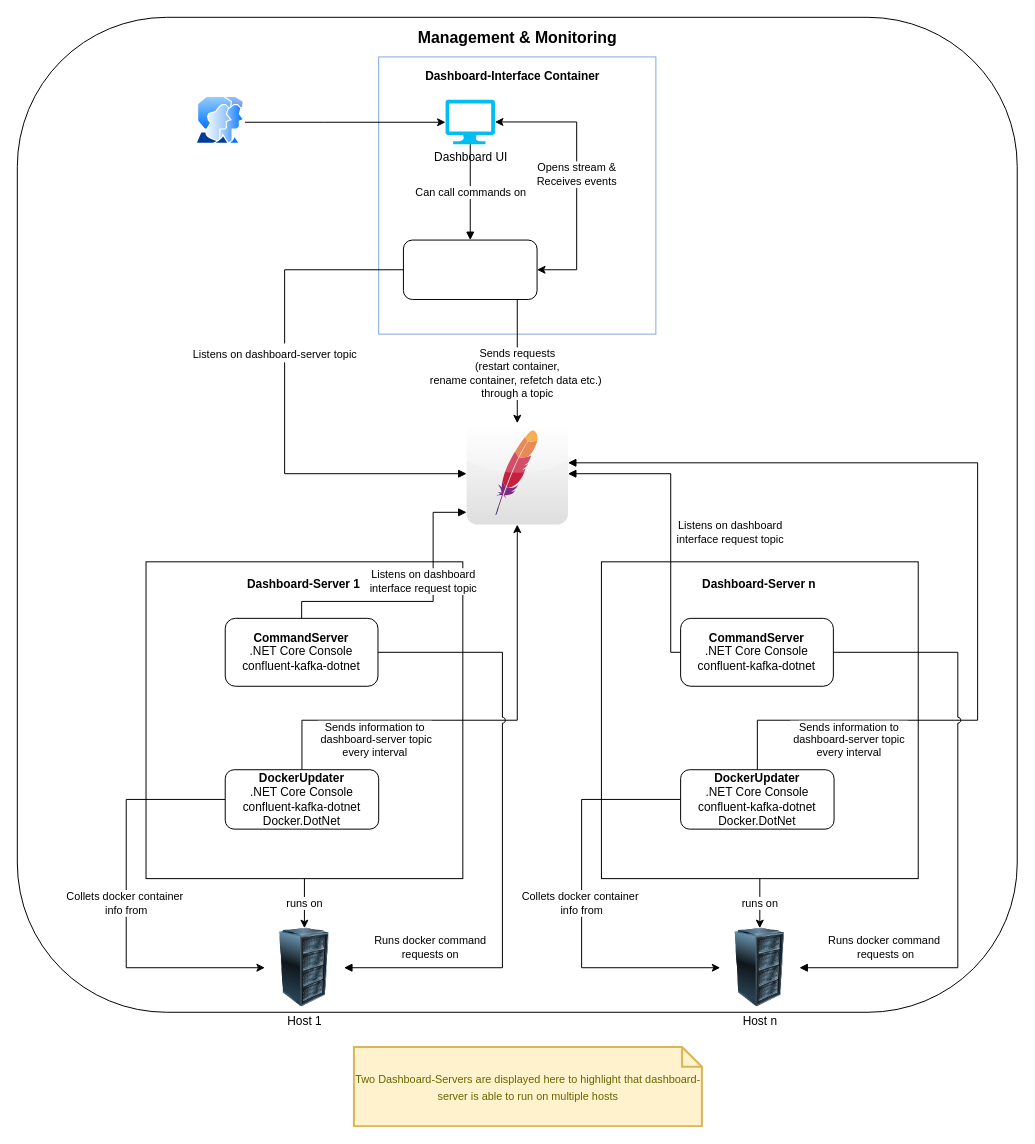
The diagram is 1035 pixels wide and 1144 high, and some of its shapes have lost their labels. The box of each missing label's shape, as (x1, y1, x2, y2) in pixels:
Enterprise Bus (kafka & zoo): (466, 422, 568, 525)
SocketServer ASP.NET Core Empty SignalR confluent-kafka-dotnet: (402, 239, 537, 299)
User: (195, 96, 245, 144)
